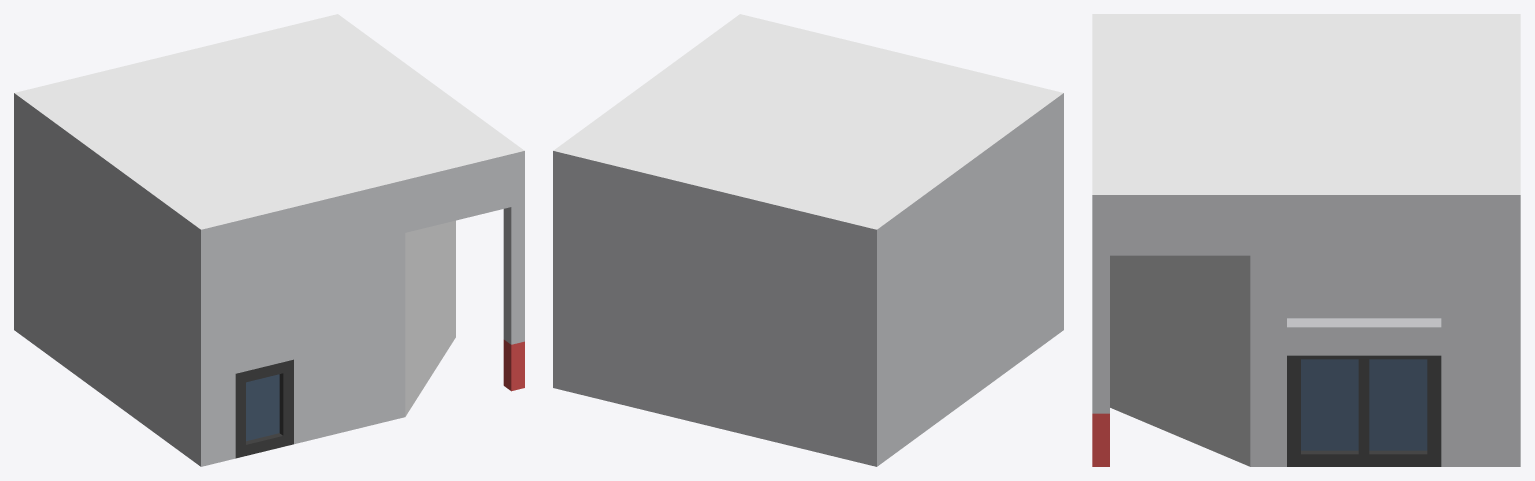
The model's file is pitsGarageCorner.glb.
The picture shows the model from 3 angles, left to right: view 1: azimuth 30°, elevation 25°; view 2: azimuth 150°, elevation 25°; view 3: azimuth 270°, elevation 25°; orthographic projection. The views are drawn at different scales.
Parts seen in each view (by area): view 1: pitsGarageCorner(Clone); view 2: pitsGarageCorner(Clone); view 3: pitsGarageCorner(Clone).
Part boxes in pixels (x1=…): pitsGarageCorner(Clone): x1=14, y1=14, x2=524, y2=466; pitsGarageCorner(Clone): x1=553, y1=14, x2=1063, y2=466; pitsGarageCorner(Clone): x1=1092, y1=14, x2=1520, y2=466.
Size of the model in its own units: 1.05 by 0.7 by 1.
